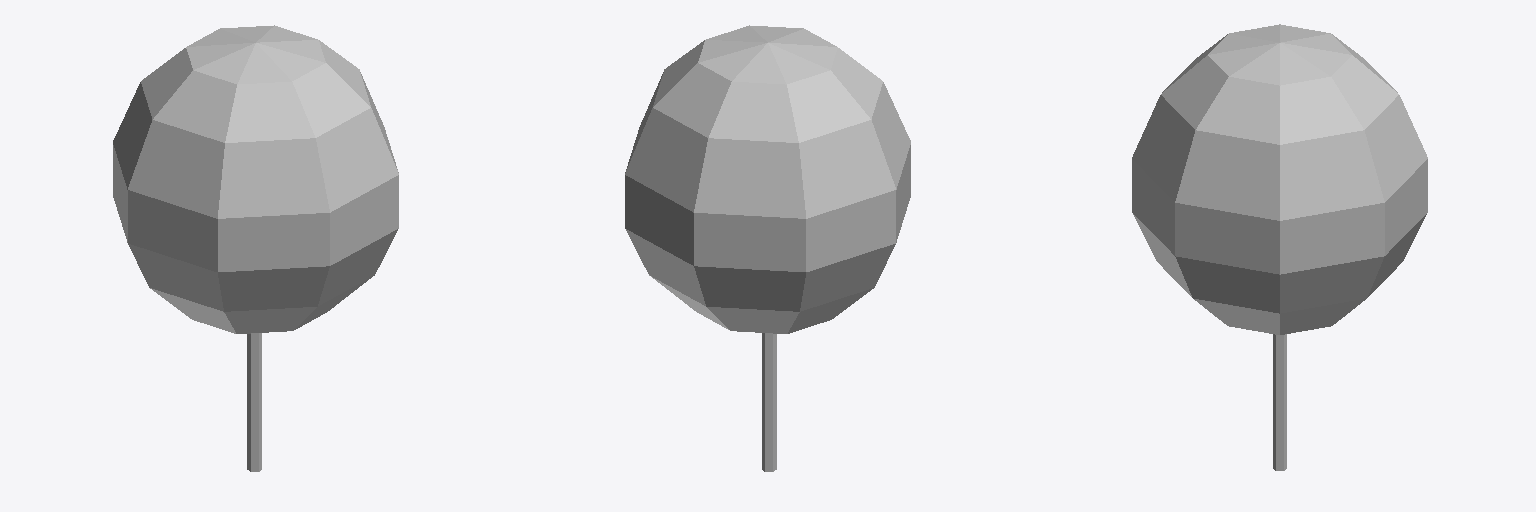
Rendered from treeB.obj.
3 views of the same model, side by side, from view 1: azimuth 30°, elevation 25°; view 2: azimuth 150°, elevation 25°; view 3: azimuth 270°, elevation 25° (orthographic).
Parts seen in each view (by area): view 1: Tree_B_TreeB, trunk; view 2: Tree_B_TreeB, trunk; view 3: Tree_B_TreeB, trunk.
Boxes of the visible parts, box(x1,y1,x2,y2) form: Tree_B_TreeB: box(113, 25, 398, 333); trunk: box(247, 333, 261, 471); Tree_B_TreeB: box(625, 25, 910, 333); trunk: box(762, 333, 776, 471); Tree_B_TreeB: box(1132, 24, 1427, 334); trunk: box(1273, 334, 1286, 470).
Bounding box in the file's own units: 0.793 × 1.26 × 0.793.